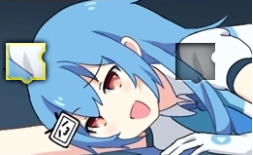gap: (175, 43, 216, 83)
